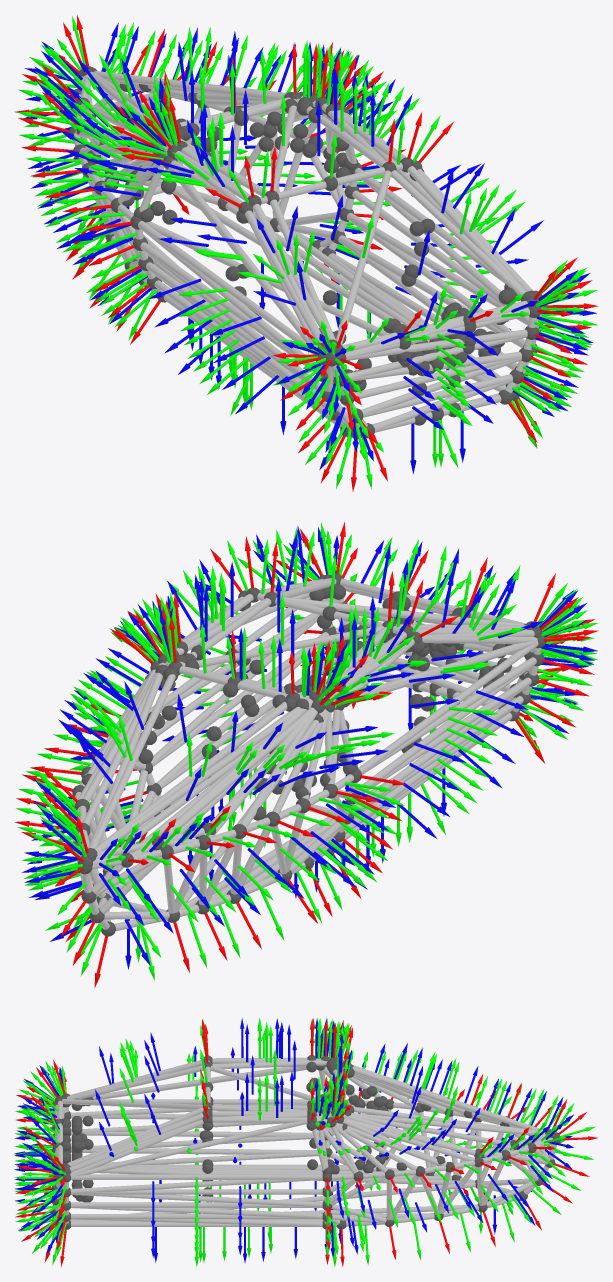
Rendered from flowrep_boat.gltf.
3 views of the same model, one above another, from view 1: azimuth 30°, elevation 25°; view 2: azimuth 150°, elevation 25°; view 3: azimuth 270°, elevation 25° (orthographic). The views are drawn at different scales.
Bounding box in the file's own units: 0.4869 × 0.3809 × 1.08.
